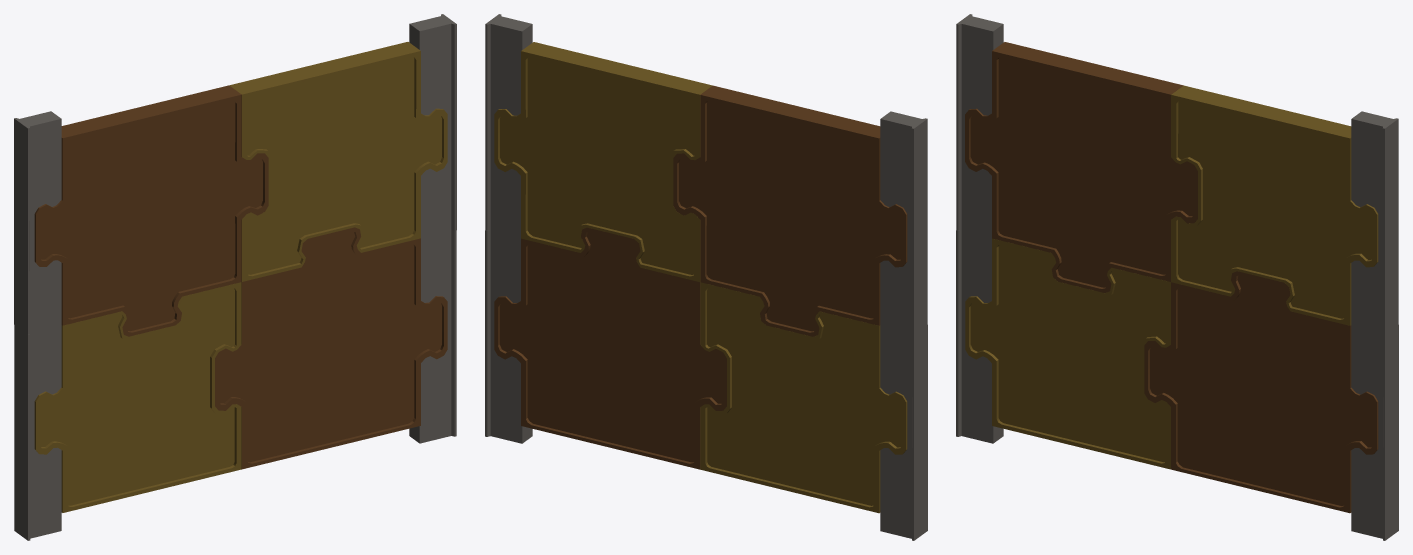
The model's file is PuzzleDoor.fbx.
The picture shows the model from 3 angles, left to right: view 1: azimuth 30°, elevation 25°; view 2: azimuth 150°, elevation 25°; view 3: azimuth 330°, elevation 25°; orthographic projection.
Parts seen in each view (by area): view 1: DoorLU, DoorRD, DoorRU, DoorLD, FrameL, FrameR; view 2: DoorLU, DoorRD, DoorRU, DoorLD, FrameL, FrameR; view 3: DoorLU, DoorRD, DoorRU, DoorLD, FrameR, FrameL.
Boxes of the visible parts, bbox=[...] form: DoorLU: bbox=[34, 85, 268, 336]; DoorRD: bbox=[215, 227, 447, 469]; DoorRU: bbox=[229, 42, 447, 281]; DoorLD: bbox=[34, 282, 241, 512]; FrameL: bbox=[14, 111, 61, 540]; FrameR: bbox=[409, 14, 456, 443]; DoorLU: bbox=[673, 85, 907, 336]; DoorRD: bbox=[494, 227, 726, 469]; DoorRU: bbox=[494, 42, 712, 281]; DoorLD: bbox=[700, 282, 907, 513]; FrameL: bbox=[880, 111, 927, 540]; FrameR: bbox=[485, 14, 532, 443]; DoorLU: bbox=[965, 42, 1197, 292]; DoorRD: bbox=[1144, 271, 1378, 513]; DoorRU: bbox=[1171, 85, 1378, 325]; DoorLD: bbox=[965, 238, 1170, 469]; FrameR: bbox=[1351, 111, 1398, 540]; FrameL: bbox=[956, 14, 1003, 443].
Size of the model in its own units: 23.94 by 22 by 1.35.
